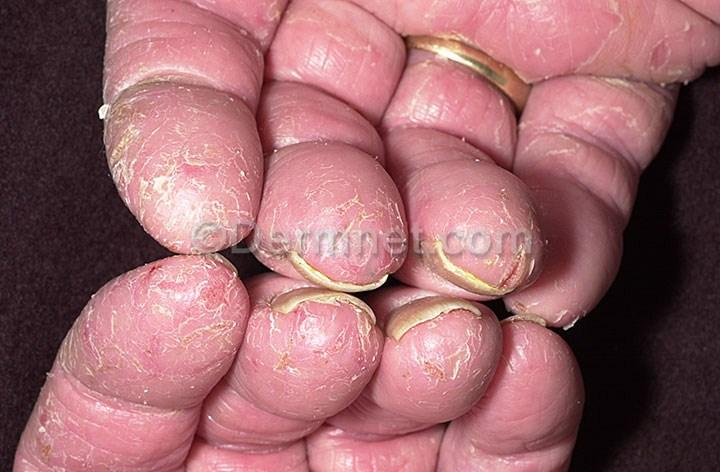Eczema: (136, 80, 265, 246), (276, 132, 414, 254), (526, 50, 661, 165), (126, 269, 243, 397), (27, 329, 130, 472), (422, 0, 637, 65), (118, 400, 299, 472), (108, 1, 272, 78), (300, 397, 460, 471), (246, 316, 365, 413), (270, 13, 379, 116), (491, 325, 589, 433), (432, 165, 534, 267), (405, 69, 518, 159), (538, 163, 619, 279), (387, 318, 484, 401), (459, 424, 577, 472), (639, 0, 720, 63)
